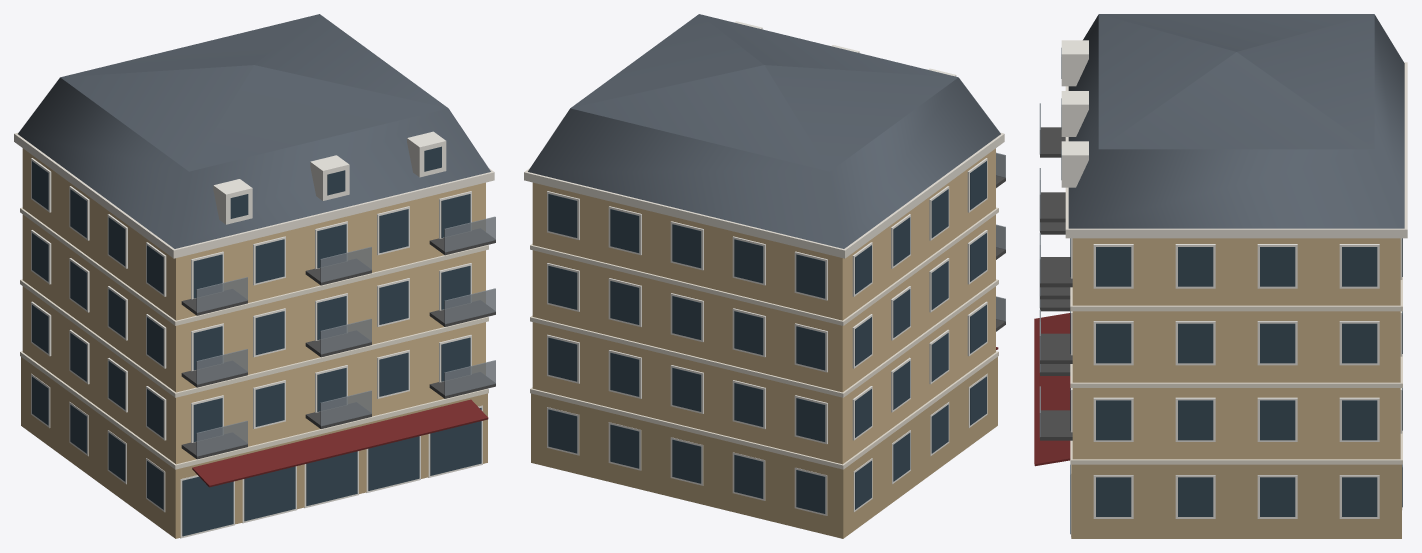
File: kamienica.glb
3 views of the same model, side by side, from view 1: azimuth 30°, elevation 25°; view 2: azimuth 150°, elevation 25°; view 3: azimuth 270°, elevation 25° (orthographic). The views are drawn at different scales.
Visible parts, largest first — view 1: Kamienica; view 2: Kamienica; view 3: Kamienica.
Boxes of the visible parts, x1,y1,x2,y2 form: Kamienica: (14,14,495,538); Kamienica: (524,14,1005,538); Kamienica: (1034,14,1407,538).
Size of the model in its own units: 14.5 by 16.4 by 13.65.
